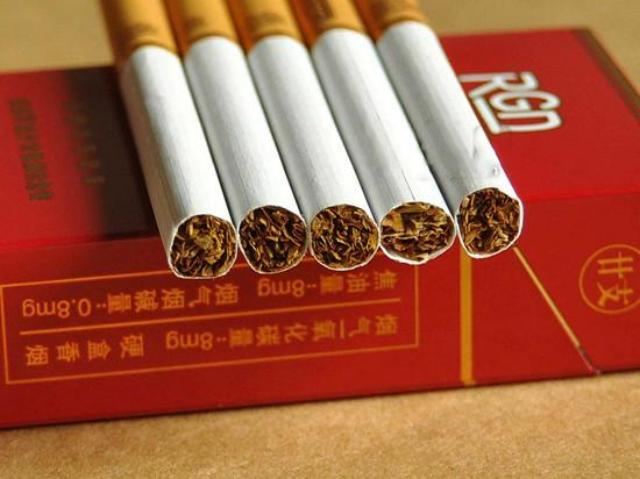Smoking: (290, 0, 458, 266), (357, 0, 526, 260), (230, 0, 382, 272), (166, 0, 310, 276), (98, 0, 240, 278)
